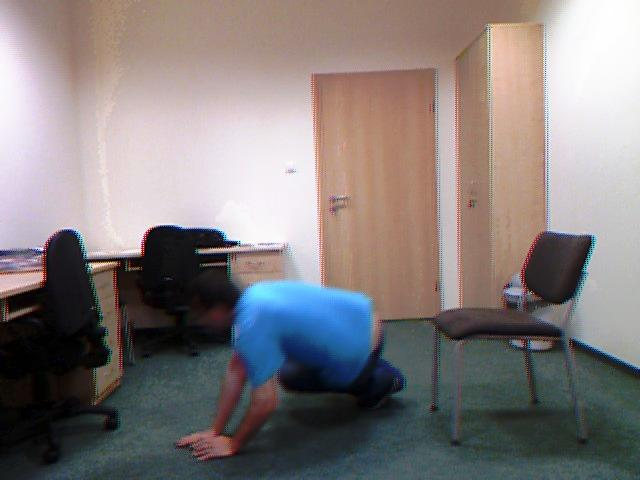fall: (168, 259, 422, 466)
